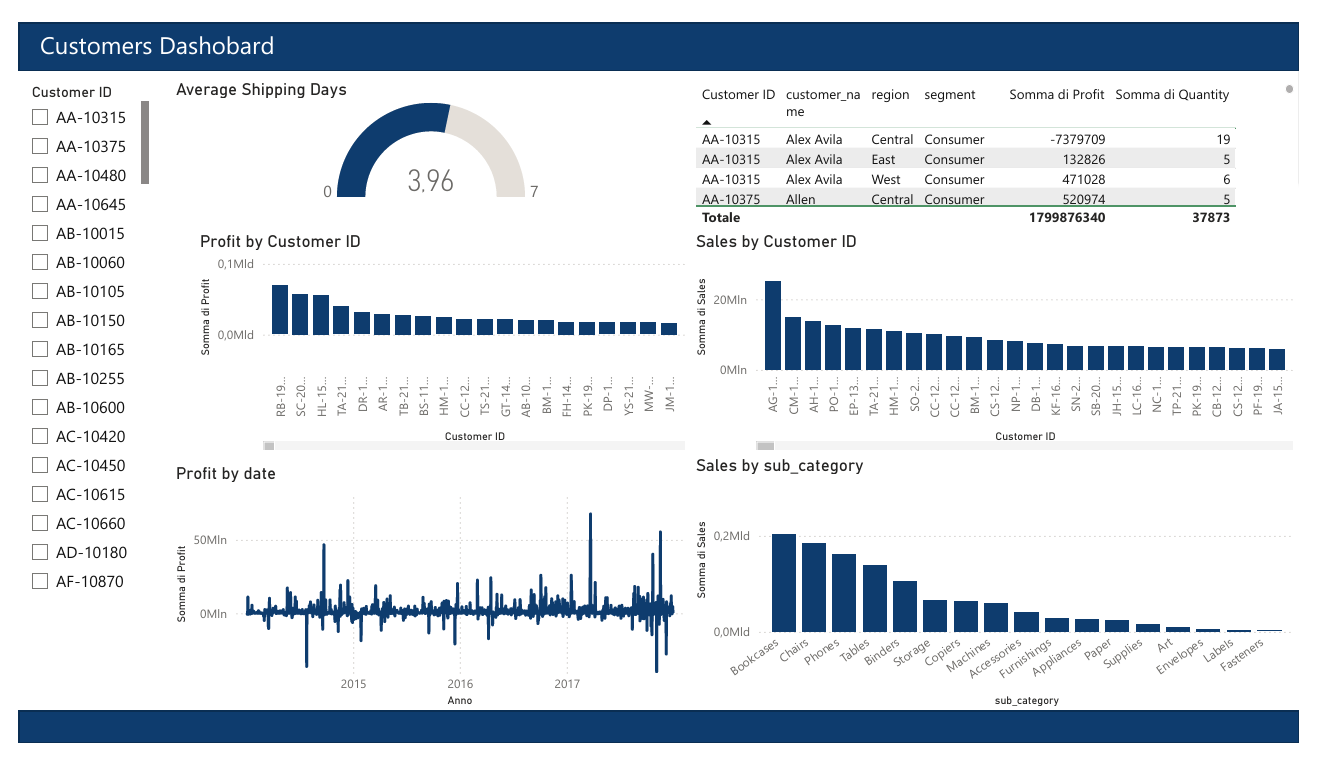

Layout of this report page (visuals, bound fields, positions):
{"tool":"powerbi","page":{"name":"Customers","canvas":[1280,720],"ordinal":1},"visuals":[{"type":"tableEx","fields":{"Values":["Store_final_data.Customer ID","Store_final_data.customer_name","Store_final_data.region","Store_final_data.segment","Store_final_data.Profit","Store_final_data.Quantity"]},"box":[672,56,608,152],"z":0},{"type":"columnChart","title":"Sales by Customer ID","fields":{"Category":["Store_final_data.Customer ID"],"Y":["Store_final_data.Sales"]},"box":[672,208,608,224],"z":1000},{"type":"columnChart","title":"Profit by Customer ID","fields":{"Y":["Store_final_data.Profit"],"Category":["Store_final_data.Customer ID"]},"box":[176,208,496,224],"z":2000},{"type":"gauge","title":"Average Shipping Days","fields":{"Y":["Store_final_data.shipping_days"],"MinValue":["Store_final_data.shipping_days"],"MaxValue":["Sum(Store_final_data.shipping_days)1"]},"box":[152,56,520,128],"z":3000},{"type":"shape","box":[0,0,1280,48],"z":3500},{"type":"columnChart","title":"Sales by sub_category","fields":{"Y":["Store_final_data.Sales"],"Category":["Store_final_data.sub_category"]},"box":[672,432,608,256],"z":4000},{"type":"slicer","fields":{"Values":["Store_final_data.Customer ID"]},"box":[0,56,136,520],"z":6000},{"type":"areaChart","title":"Profit by date","fields":{"Y":["Store_final_data.Profit"],"Category":["Store_final_data.order_date.Variazione.Gerarchia data.Anno","Store_final_data.order_date.Variazione.Gerarchia data.Trimestre","Store_final_data.order_date.Variazione.Gerarchia data.Mese","Store_final_data.order_date.Variazione.Gerarchia data.Giorno"]},"box":[152,440,520,248],"z":7000},{"type":"shape","box":[0,688,1280,32],"z":8000},{"type":"shape","box":[0,688,1280,32],"z":10000},{"type":"textbox","box":[16,0,368,48],"z":10500}]}

Visuals, with their boxes in screenshot pixels (x1, y1, x2, y2), scaled from the page's 1280x720 canvas onto the 1320x760 screenshot:
tableEx - Store_final_data.Customer ID x Store_final_data.customer_name: left=693, top=59, right=1319, bottom=220
"Sales by Customer ID" columnChart: left=693, top=220, right=1319, bottom=456
"Profit by Customer ID" columnChart: left=182, top=220, right=693, bottom=456
"Average Shipping Days" gauge: left=157, top=59, right=693, bottom=194
shape: left=0, top=0, right=1319, bottom=51
"Sales by sub_category" columnChart: left=693, top=456, right=1319, bottom=726
slicer - Store_final_data.Customer ID: left=0, top=59, right=140, bottom=608
"Profit by date" areaChart: left=157, top=464, right=693, bottom=726
shape: left=0, top=726, right=1319, bottom=759
shape: left=0, top=726, right=1319, bottom=759
textbox: left=16, top=0, right=396, bottom=51
